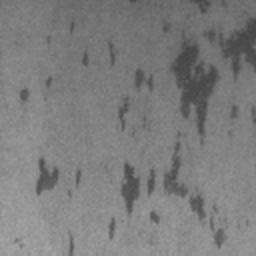Red iron sheet: (108, 0, 256, 248), (36, 156, 82, 196), (19, 76, 53, 105), (81, 40, 117, 67), (68, 231, 75, 256), (13, 237, 24, 248)
